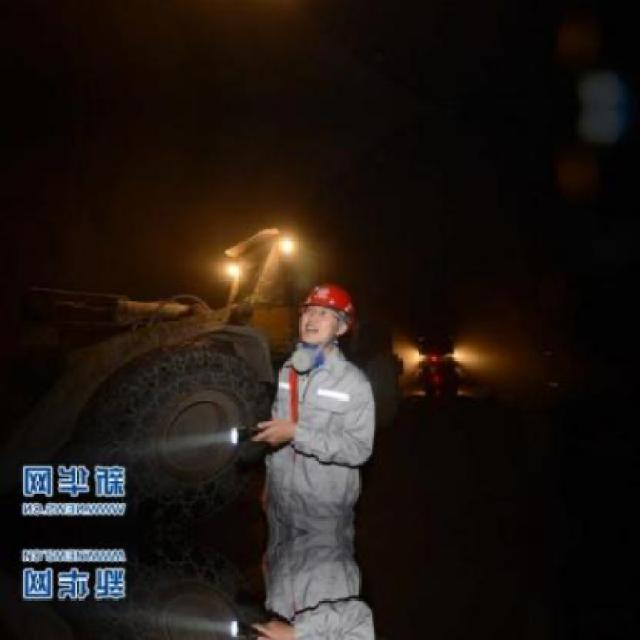con casco: (266, 270, 386, 359)
